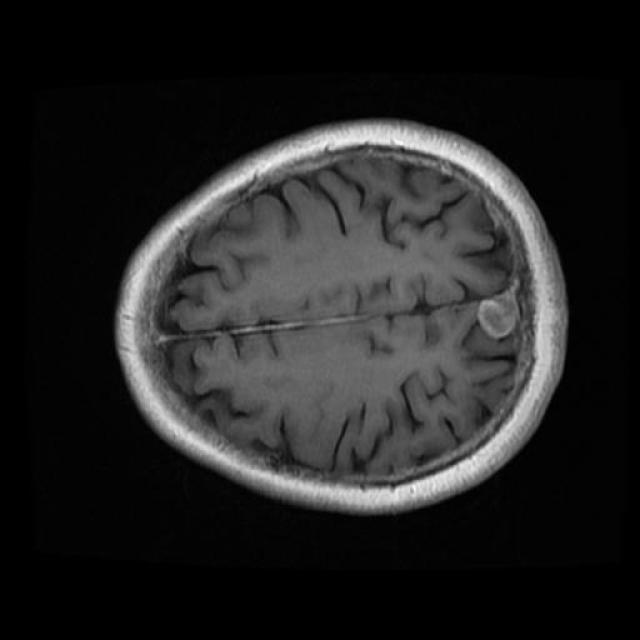Meningioma: (477, 293, 516, 339)
